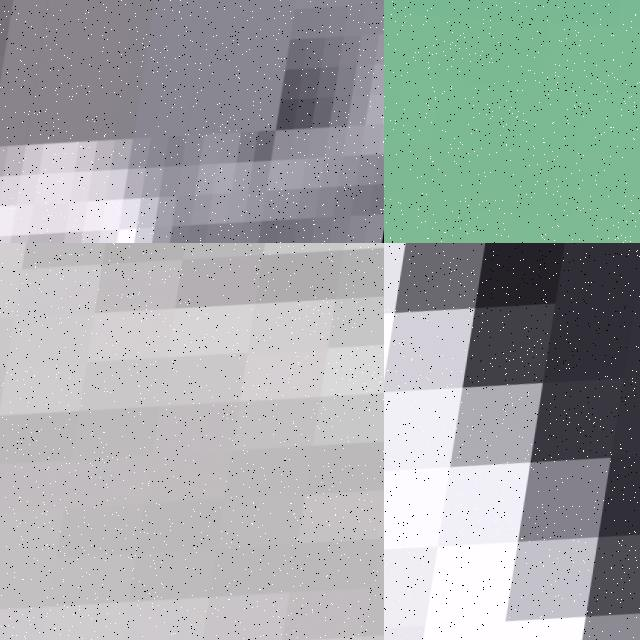0: (0, 0, 384, 243)
drone: (0, 243, 384, 640), (384, 243, 640, 640)
